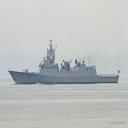Fragata: (9, 39, 120, 87)
